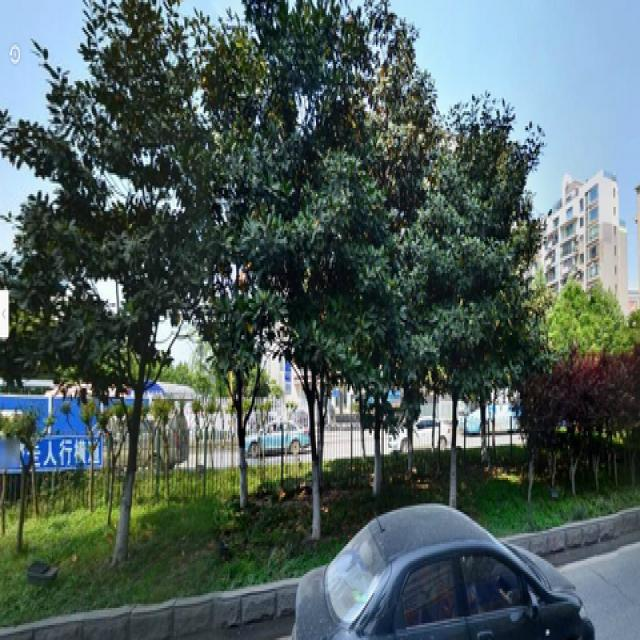magn: (57, 30, 196, 520)
